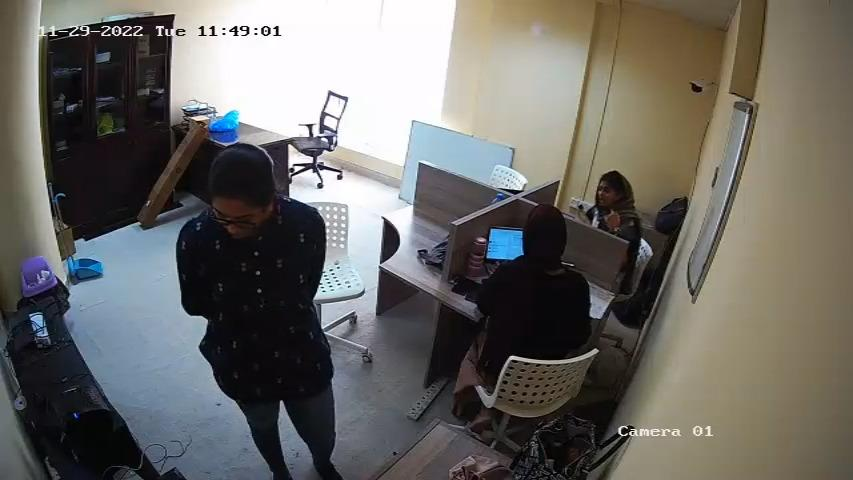no_apron: (209, 237, 315, 388)
